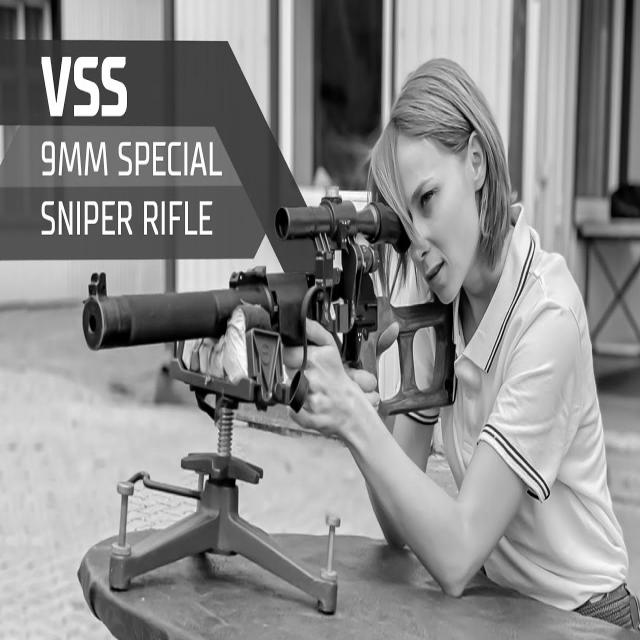Sniper: (49, 176, 463, 528)
